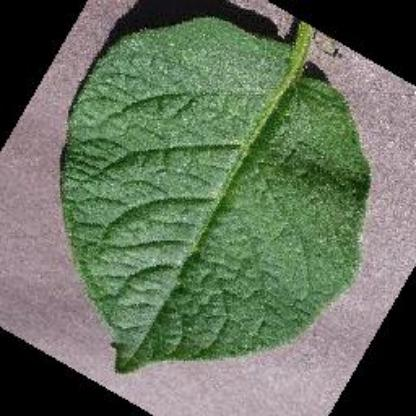Healthy-plant: (55, 2, 376, 374)
